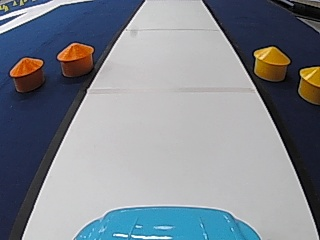granary: (251, 43, 292, 81), (55, 40, 94, 77), (8, 54, 44, 91), (296, 64, 320, 102)
